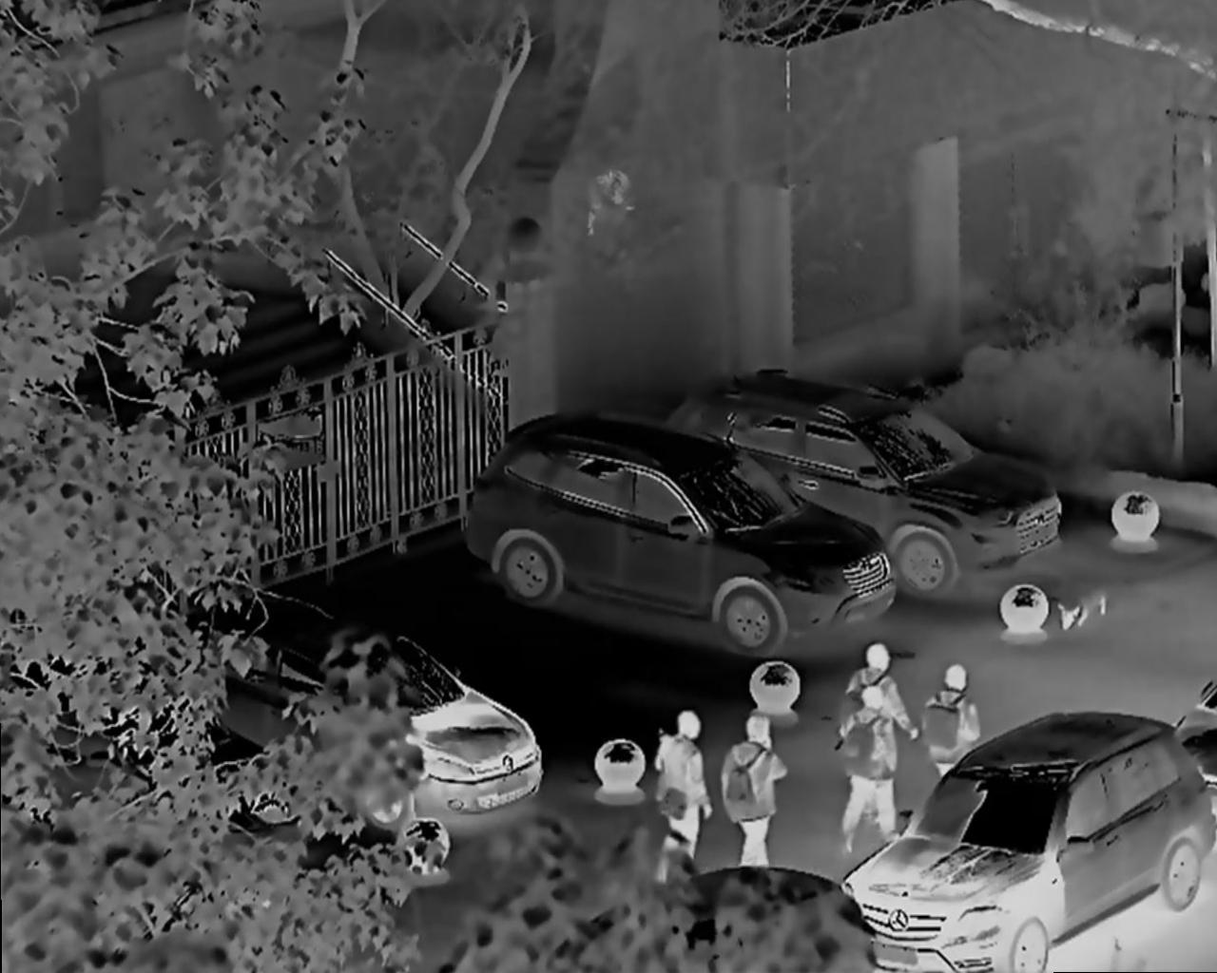person: (848, 684, 911, 853), (654, 701, 716, 863), (724, 707, 794, 847), (916, 660, 980, 776), (854, 641, 901, 692)
